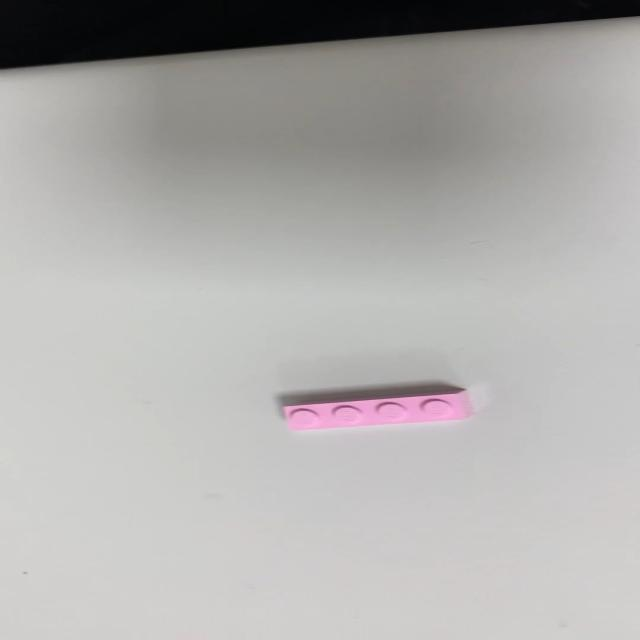C4x1x1: (281, 385, 473, 432)
